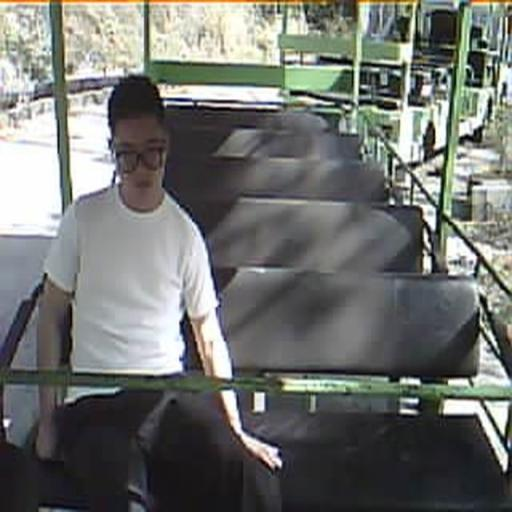persona: (31, 72, 283, 510)
